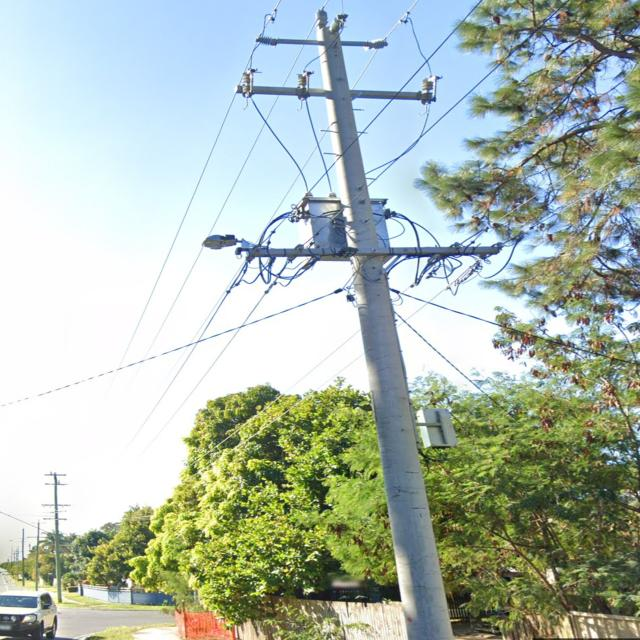HV-transmission: (241, 8, 444, 117), (44, 472, 68, 486)
LV link: (444, 232, 524, 296), (228, 256, 279, 292), (280, 242, 318, 287), (414, 254, 463, 288)
concrete-pole: (314, 26, 456, 640)
crossarm: (233, 84, 422, 101), (246, 246, 499, 258), (278, 38, 372, 48), (42, 504, 68, 506), (43, 518, 67, 520), (44, 474, 66, 476), (50, 511, 63, 513), (27, 537, 48, 538), (34, 522, 44, 524), (49, 484, 65, 485)
streetlight: (202, 233, 243, 250)
timber-pole: (54, 472, 62, 603), (35, 523, 40, 590), (22, 529, 24, 586), (11, 546, 13, 568)
transformer: (301, 192, 393, 263)
